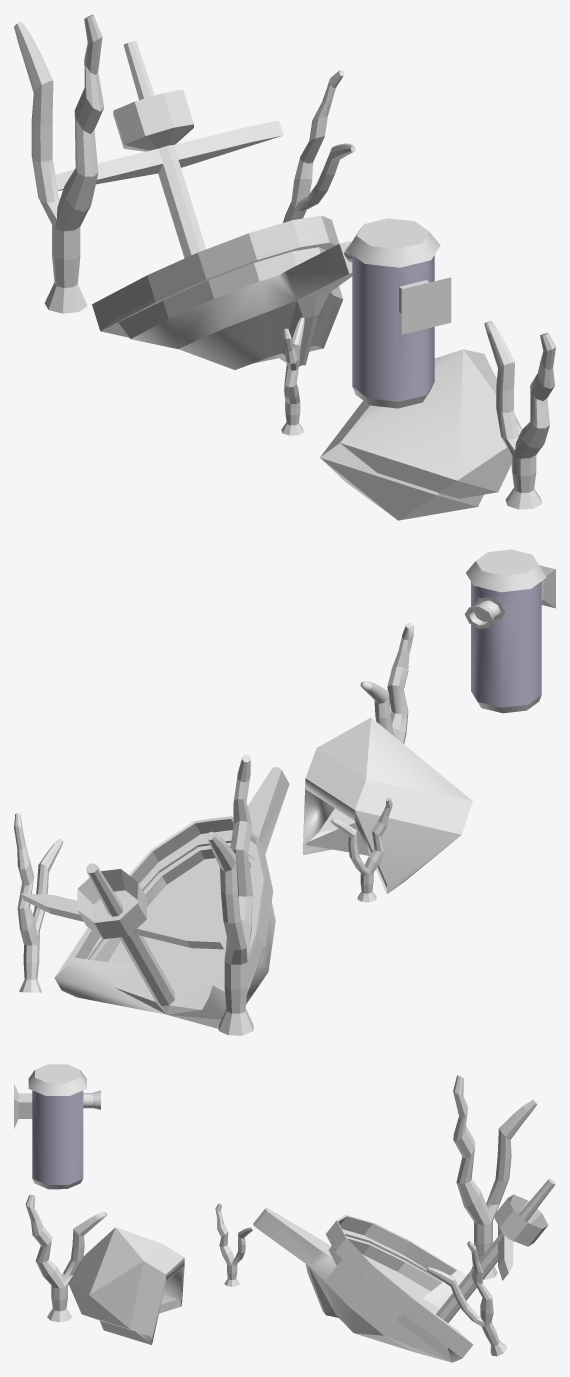
Rendered from TankDecoration.fbx.
3 views of the same model, one above another, from view 1: azimuth 30°, elevation 25°; view 2: azimuth 150°, elevation 25°; view 3: azimuth 270°, elevation 25° (orthographic). The views are drawn at different scales.
Visible parts, largest first — view 1: TankDecoration; view 2: TankDecoration; view 3: TankDecoration.
Boxes of the visible parts, bbox=[...] form: TankDecoration: bbox=[14, 14, 555, 520]; TankDecoration: bbox=[14, 549, 555, 1035]; TankDecoration: bbox=[14, 1064, 555, 1362].
Size of the model in its own units: 44.85 by 51.54 by 106.
